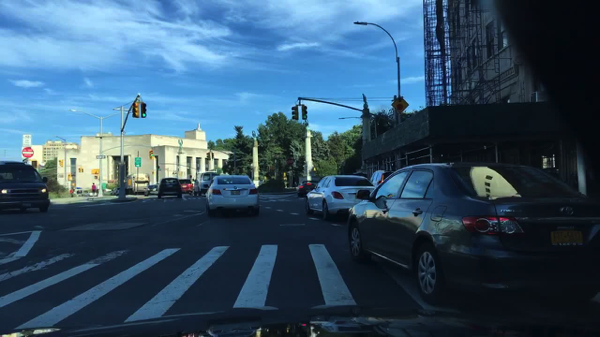car: (346, 162, 599, 304), (305, 176, 374, 220), (0, 160, 50, 214), (202, 175, 260, 216), (191, 171, 214, 197), (157, 179, 183, 200), (369, 171, 394, 187), (298, 180, 319, 198), (179, 179, 192, 193), (146, 185, 160, 195), (113, 188, 120, 195)
person: (91, 183, 97, 195), (68, 188, 74, 197)
traffic light: (301, 105, 308, 121), (139, 103, 146, 118), (132, 103, 139, 118), (290, 107, 298, 120), (206, 153, 211, 162), (93, 169, 98, 174), (59, 160, 63, 166), (151, 150, 153, 157), (212, 153, 214, 160), (78, 167, 80, 173), (81, 168, 83, 174)
traffic sign: (390, 98, 408, 112), (22, 148, 35, 157), (135, 157, 140, 167), (286, 158, 294, 164), (95, 155, 105, 159)
truck: (125, 174, 150, 196)
